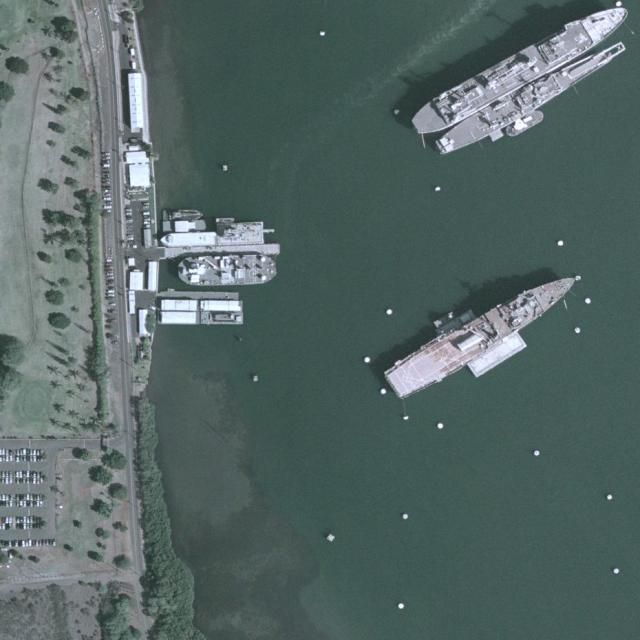Landing: (381, 265, 588, 403)
Other Ship: (162, 209, 204, 221)
Other Warship: (407, 1, 625, 141), (432, 37, 619, 160), (178, 252, 279, 288), (503, 107, 546, 139)
